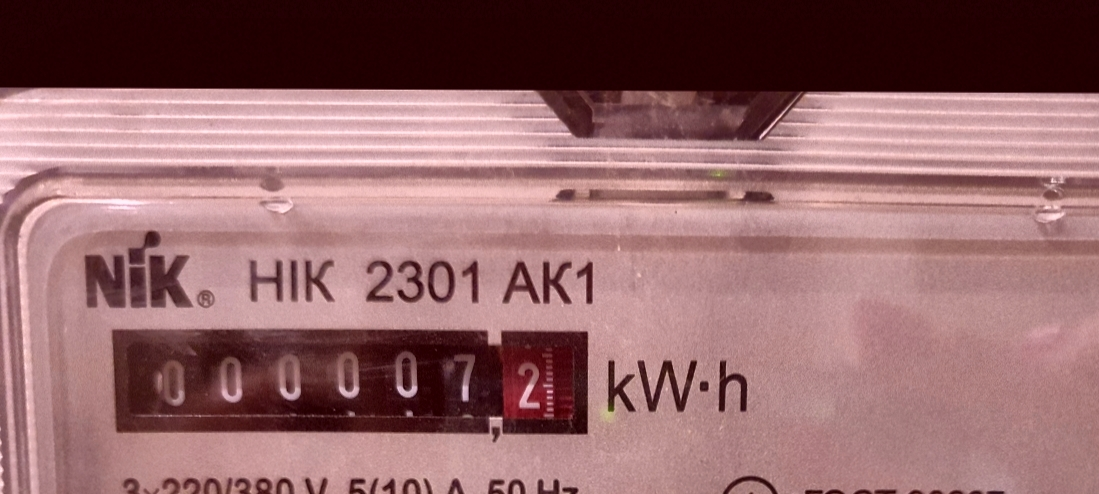0: (212, 351, 246, 404), (388, 347, 420, 400), (272, 349, 303, 402), (330, 347, 361, 400), (155, 356, 187, 407)
2: (512, 360, 542, 410)
7: (447, 349, 477, 404)
screen: (92, 309, 607, 453)
